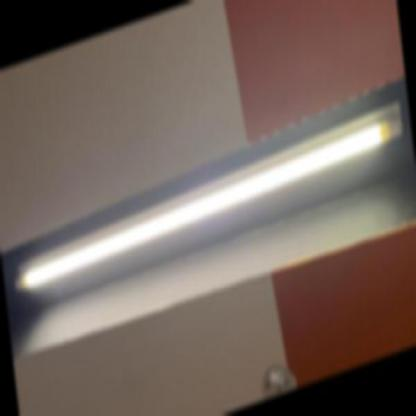light_on: (2, 88, 416, 314)
